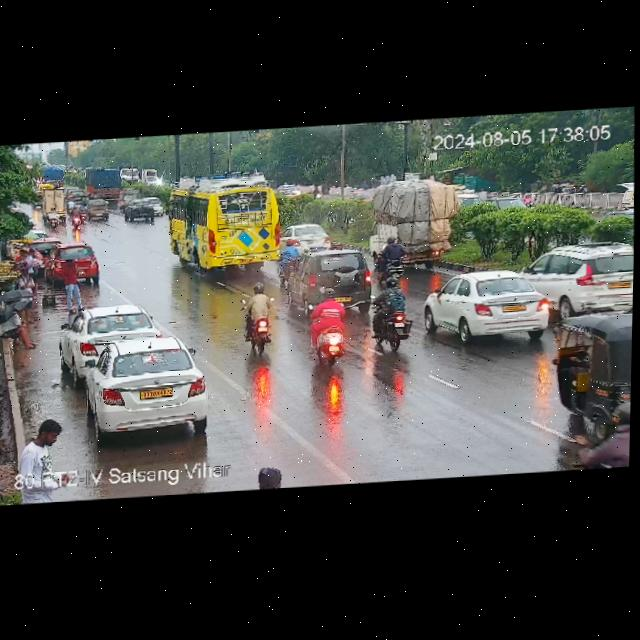bus: (159, 168, 283, 275)
car: (441, 236, 634, 324), (82, 333, 210, 435), (425, 259, 563, 339), (544, 310, 632, 417), (65, 302, 161, 369), (285, 244, 379, 309), (48, 242, 101, 283), (279, 223, 338, 251), (123, 196, 165, 222), (88, 198, 110, 221), (67, 187, 88, 201), (47, 206, 57, 230)
motorcycle: (565, 400, 630, 469), (304, 288, 352, 366), (366, 284, 414, 353), (244, 283, 273, 355), (371, 235, 407, 285), (273, 239, 303, 278), (68, 199, 88, 227)
person: (20, 407, 64, 469), (0, 303, 40, 353), (249, 460, 301, 490), (17, 262, 37, 321), (61, 256, 79, 315), (13, 244, 36, 266)
truck: (370, 166, 464, 275), (85, 168, 120, 197), (42, 162, 69, 188), (43, 186, 68, 212)
